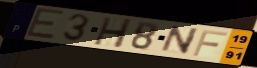3: (61, 13, 92, 43)
8: (129, 21, 160, 51)
E: (24, 6, 67, 41)
F: (190, 28, 229, 57)
H: (92, 16, 135, 50)
N: (158, 25, 201, 56)
